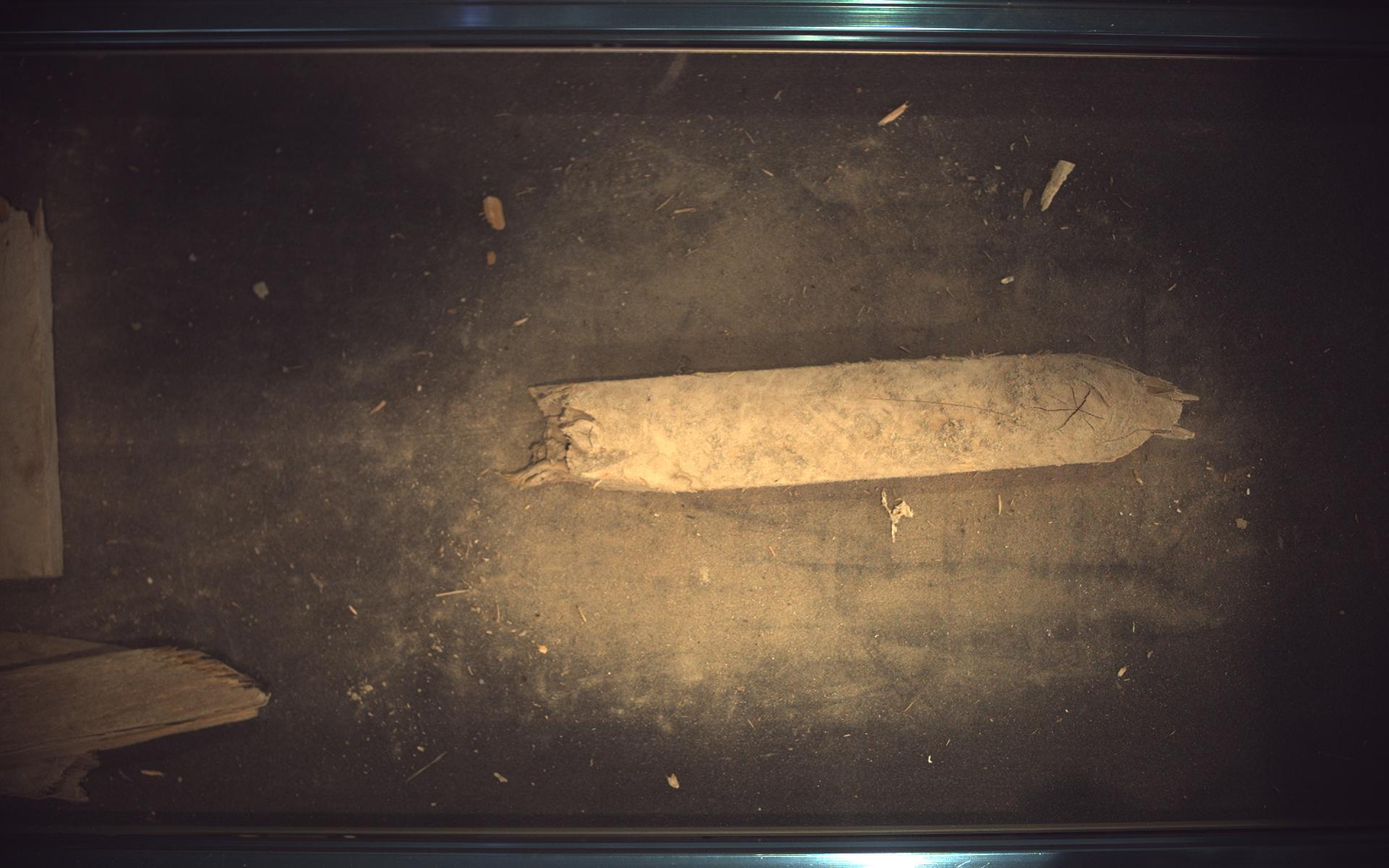wood: (505, 353, 1200, 493)
